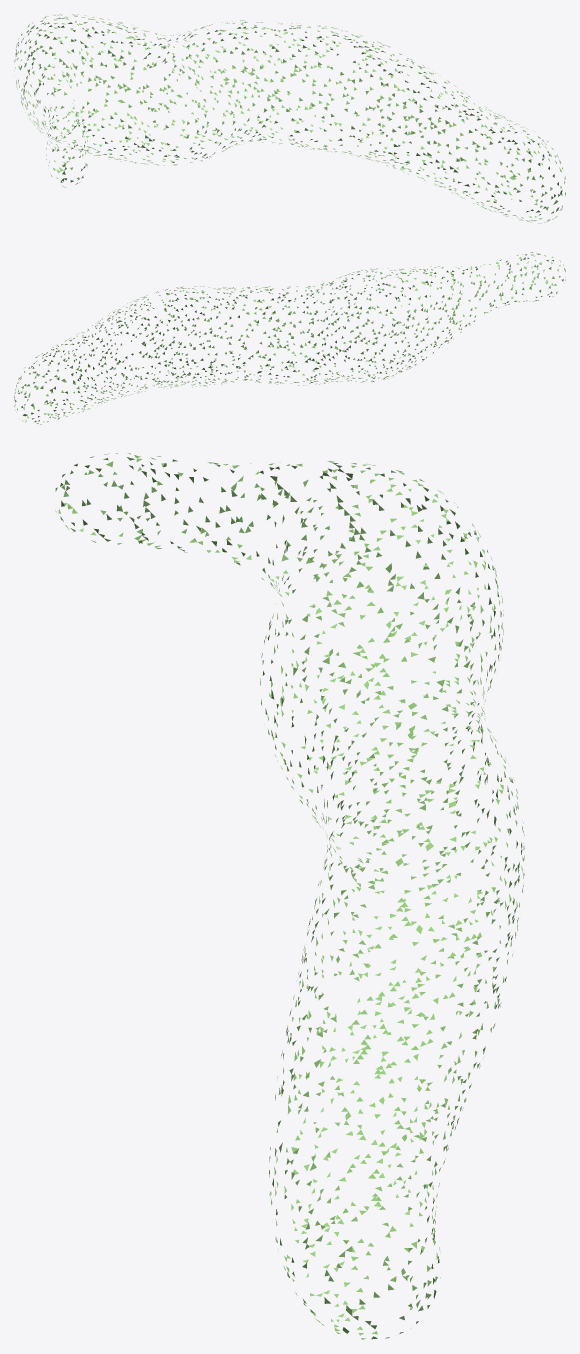
File: morph_014.glb
The picture shows the model from 3 angles, top to bottom: view 1: azimuth 30°, elevation 25°; view 2: azimuth 150°, elevation 25°; view 3: azimuth 270°, elevation 25°; orthographic projection. The views are drawn at different scales.
Bounding box in the file's own units: 108 × 54.4 × 47.02.
